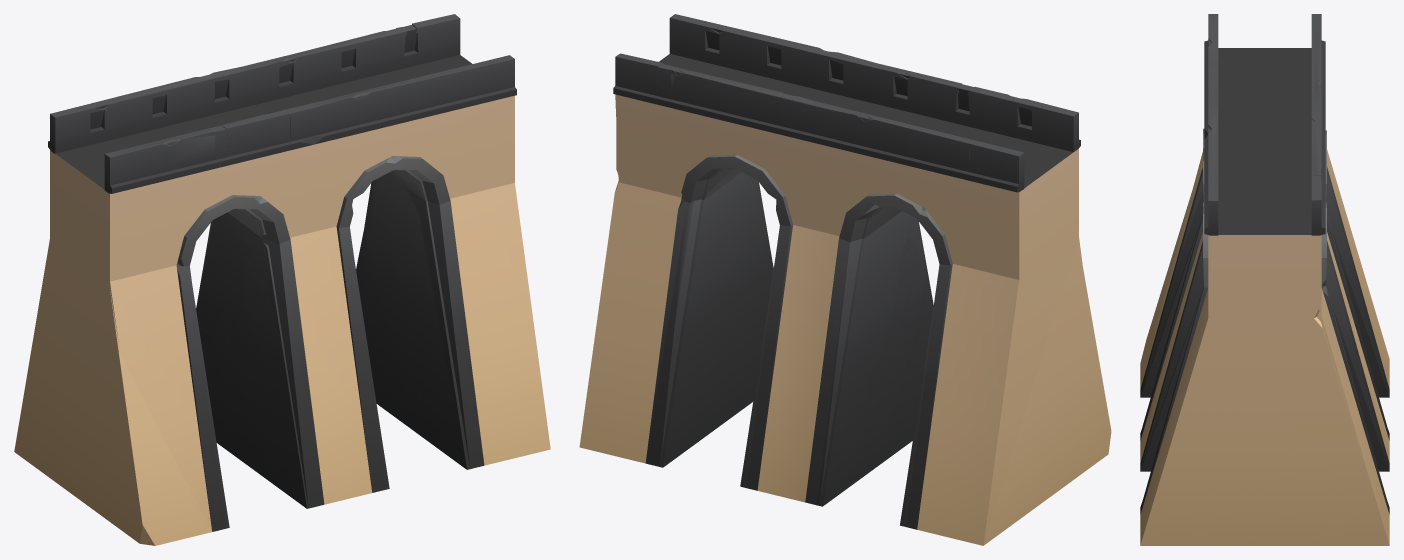
The model's file is Fort Wall 02.fbx.
3 views of the same model, side by side, from view 1: azimuth 30°, elevation 25°; view 2: azimuth 150°, elevation 25°; view 3: azimuth 270°, elevation 25° (orthographic). The views are drawn at different scales.
Visible parts, largest first — view 1: Fort Wall 02 low, Fort Wall 02 high, Fort Wall 02; view 2: Fort Wall 02 low, Fort Wall 02 high, Fort Wall 02; view 3: Fort Wall 02 high, Fort Wall 02 low, Fort Wall 02.
Part boxes in pixels (box(x1,y1,x2,y2)): Fort Wall 02 low: box(15, 25, 550, 531); Fort Wall 02 high: box(14, 14, 516, 545); Fort Wall 02: box(50, 14, 514, 504); Fort Wall 02 low: box(579, 15, 1082, 545); Fort Wall 02 high: box(581, 14, 1111, 545); Fort Wall 02: box(610, 16, 1078, 503); Fort Wall 02 high: box(1140, 14, 1389, 545); Fort Wall 02 low: box(1140, 14, 1389, 545); Fort Wall 02: box(1141, 14, 1389, 471).
Size of the model in its own units: 14.31 by 12.37 by 8.06.
1 material, 1 textured.
